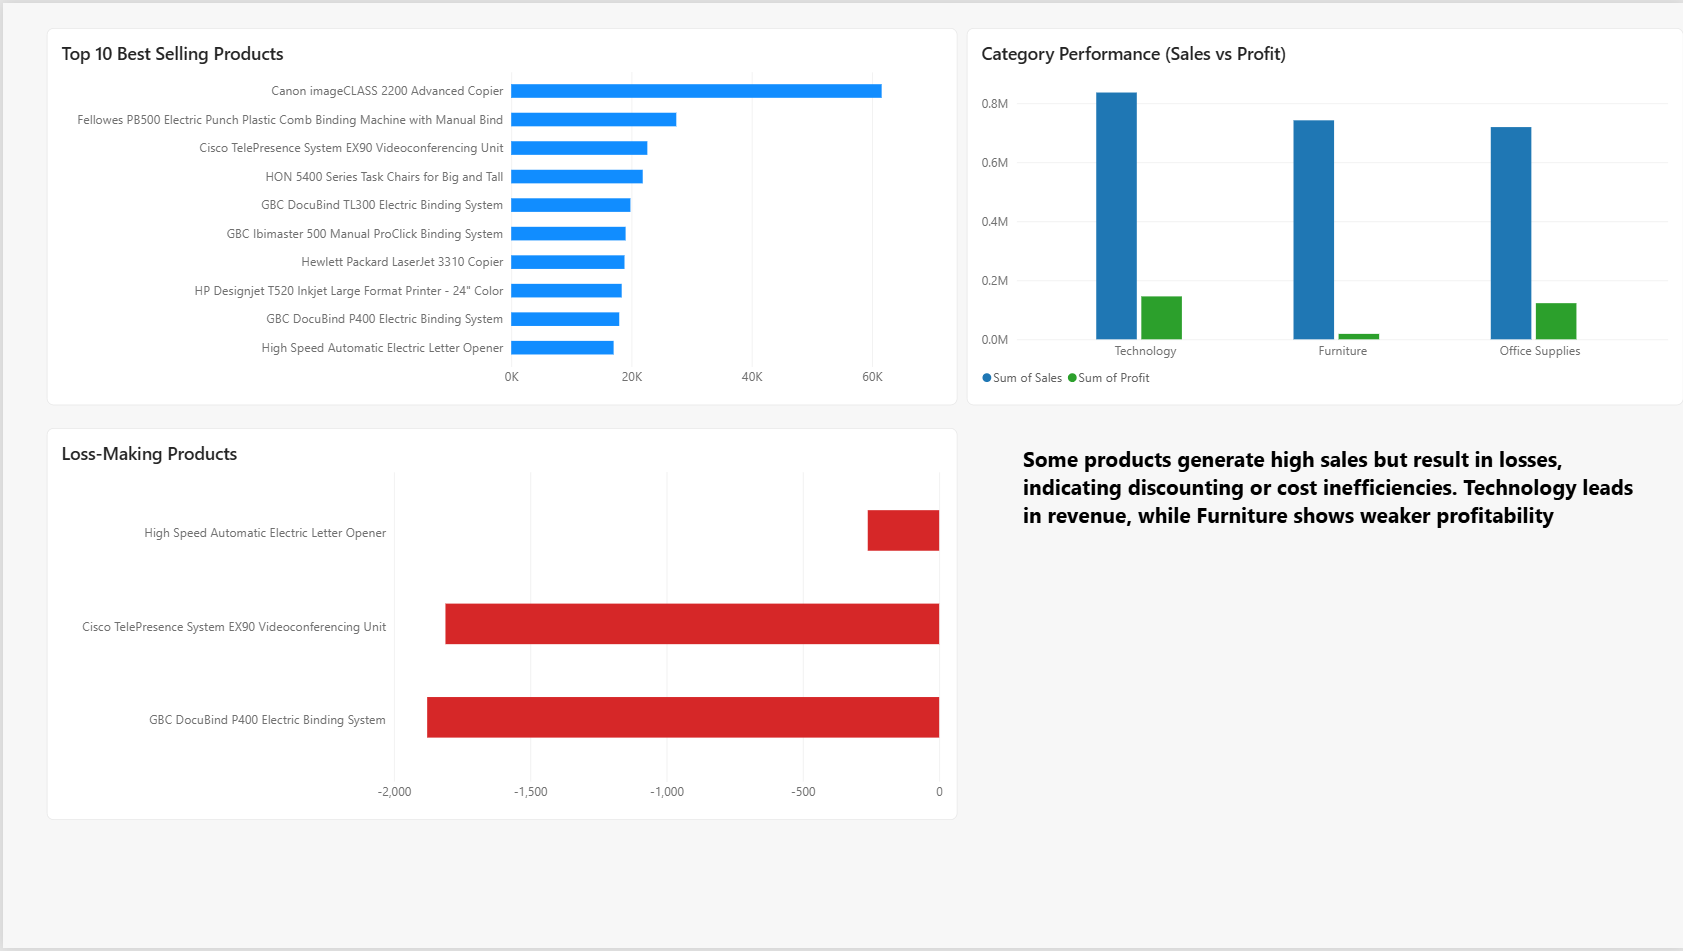

The dashboard page shown, as its layout file describes it:
{"tool":"powerbi","page":{"name":"Product Insights","canvas":[1920,1080],"ordinal":2},"visuals":[{"type":"clusteredBarChart","title":"Top 10 Best Selling Products","fields":{"Category":["Sample - Superstore.Product Name"],"Y":["Sum(Sample - Superstore.Sales)"]},"box":[50,28.9,1041.1,431.1],"z":0},{"type":"clusteredBarChart","title":"Loss-Making Products","fields":{"Category":["Sample - Superstore.Product Name"],"Y":["Sum(Sample - Superstore.Profit)"]},"box":[50,485.6,1041.1,447.8],"z":1000},{"type":"clusteredColumnChart","title":"Category Performance (Sales vs Profit)","fields":{"Category":["Sample - Superstore.Category"],"Y":["Sum(Sample - Superstore.Sales)","Sum(Sample - Superstore.Profit)"]},"box":[1101,29,819,431],"z":2000},{"type":"textbox","box":[1166.2,503.8,725,188.8],"z":3000}]}

Visuals, with their boxes in screenshot pixels (x1, y1, x2, y2), scaled from the page's 1920x1080 canvas onto the 1683x951 screenshot:
"Top 10 Best Selling Products" clusteredBarChart: {"x1": 44, "y1": 25, "x2": 956, "y2": 405}
"Loss-Making Products" clusteredBarChart: {"x1": 44, "y1": 428, "x2": 956, "y2": 822}
"Category Performance (Sales vs Profit)" clusteredColumnChart: {"x1": 965, "y1": 26, "x2": 1682, "y2": 405}
textbox: {"x1": 1022, "y1": 444, "x2": 1658, "y2": 610}
